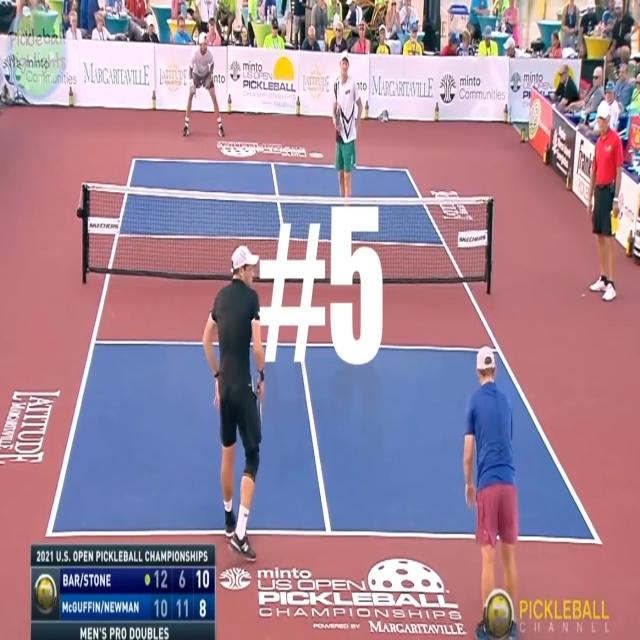Court: (50, 160, 599, 540)
